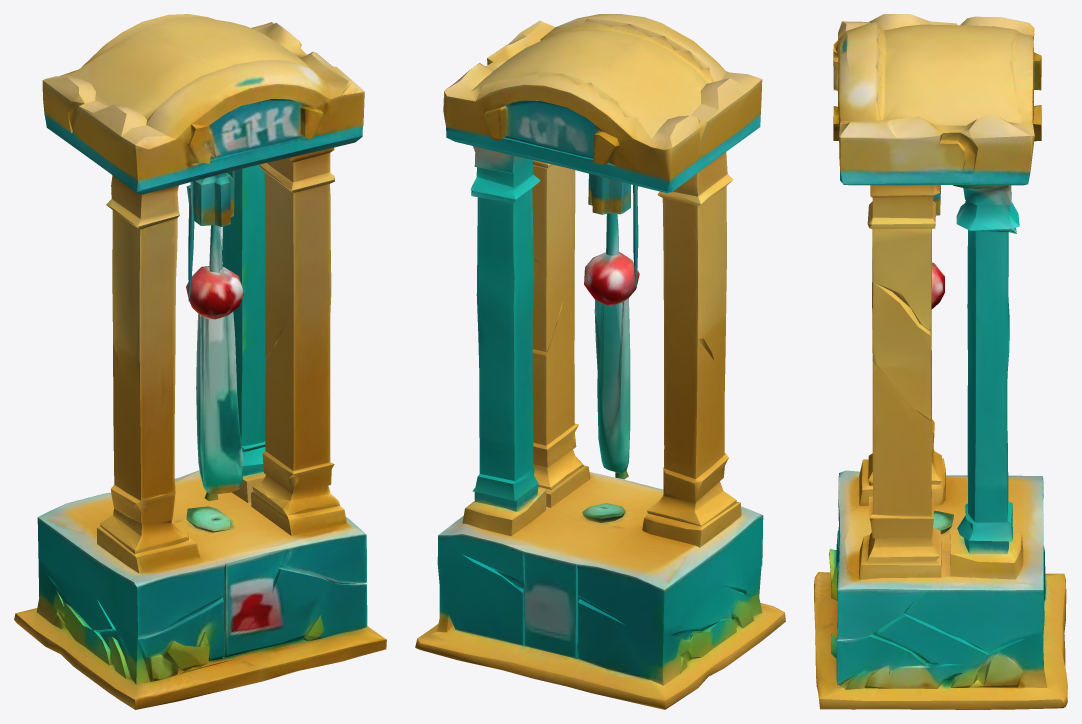
Rendered from m2RotatingPole.glb.
3 views of the same model, side by side, from view 1: azimuth 30°, elevation 25°; view 2: azimuth 150°, elevation 25°; view 3: azimuth 270°, elevation 25° (orthographic). The views are drawn at different scales.
Parts seen in each view (by area): view 1: model; view 2: model; view 3: model.
Boxes of the visible parts, bbox=[...] form: model: bbox=[14, 14, 386, 709]; model: bbox=[415, 14, 785, 709]; model: bbox=[814, 14, 1067, 709].
Bounding box in the file's own units: 0.8507 × 1.9 × 0.7173.
1 material, 1 textured.
